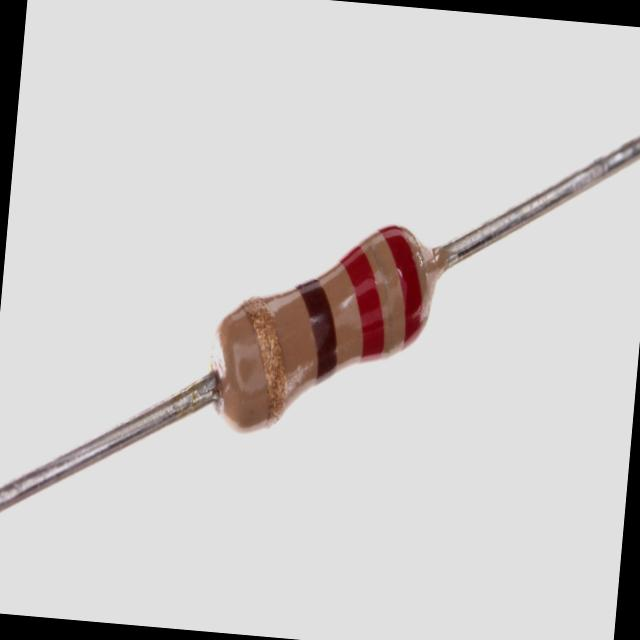Resistor: (210, 224, 449, 432)
brown: (297, 277, 336, 383)
gold: (244, 296, 285, 432)
red: (376, 226, 422, 352), (337, 245, 385, 365)
